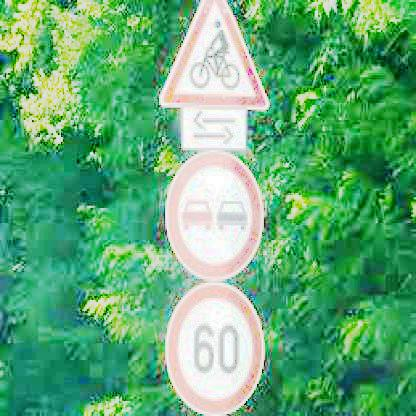Speed Limit -60-: (162, 282, 263, 416)
